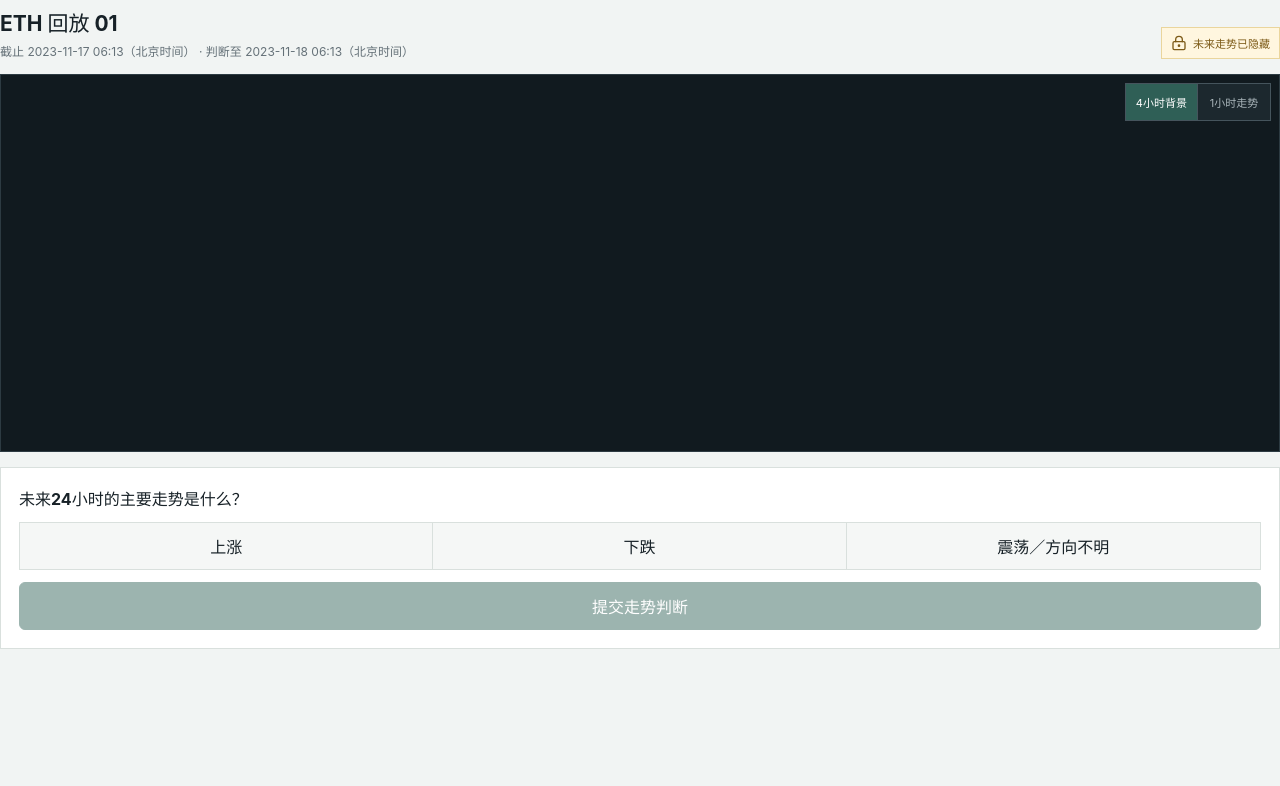
Test: ReplayStep › shows a custom continue label after submission
The image size is (1280, 786).
What coordinates should you click on to do the following:
click the radio button labelled "下跌"
I would click on:
 (640, 546)
Its box is [433,523,847,569].
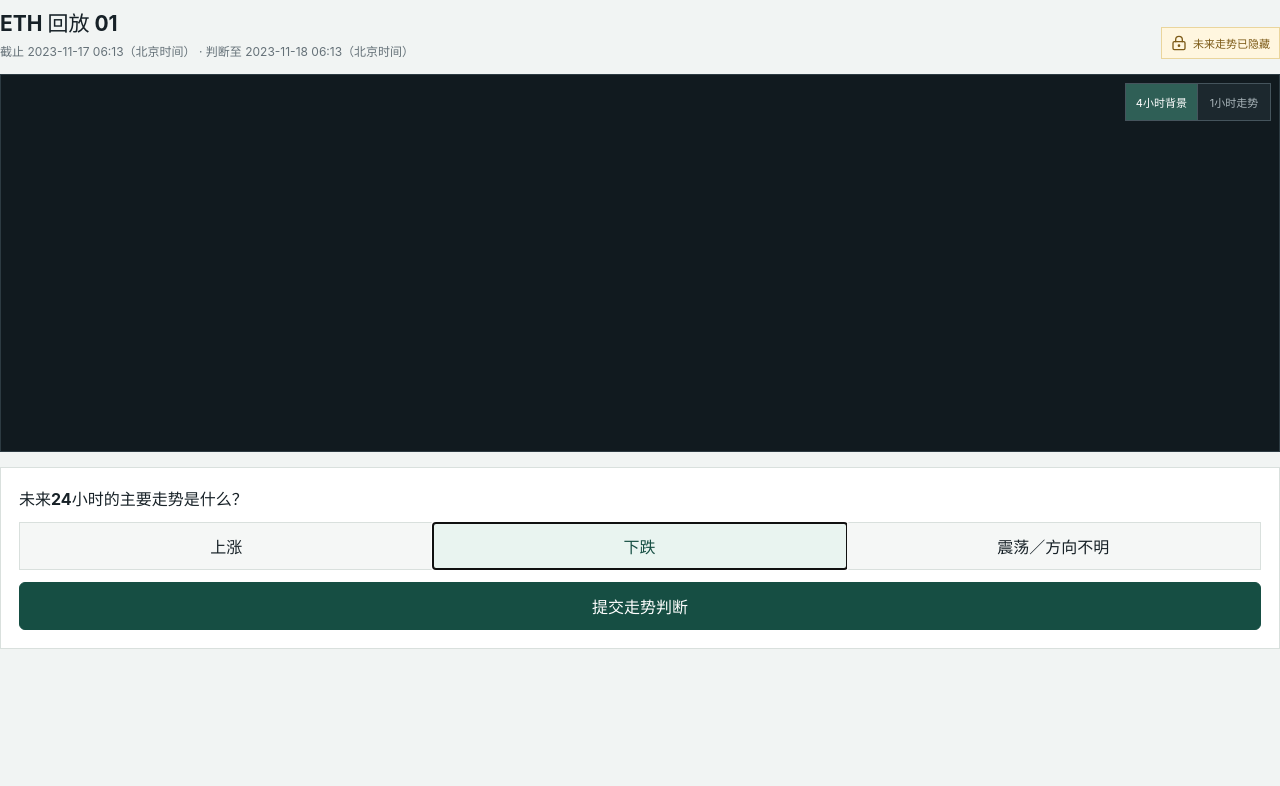
What coordinates should you click on to do the following:
click the button "提交走势判断"
I would click on:
 (640, 606)
Its box is [19,582,1261,630].
(page scrolled)
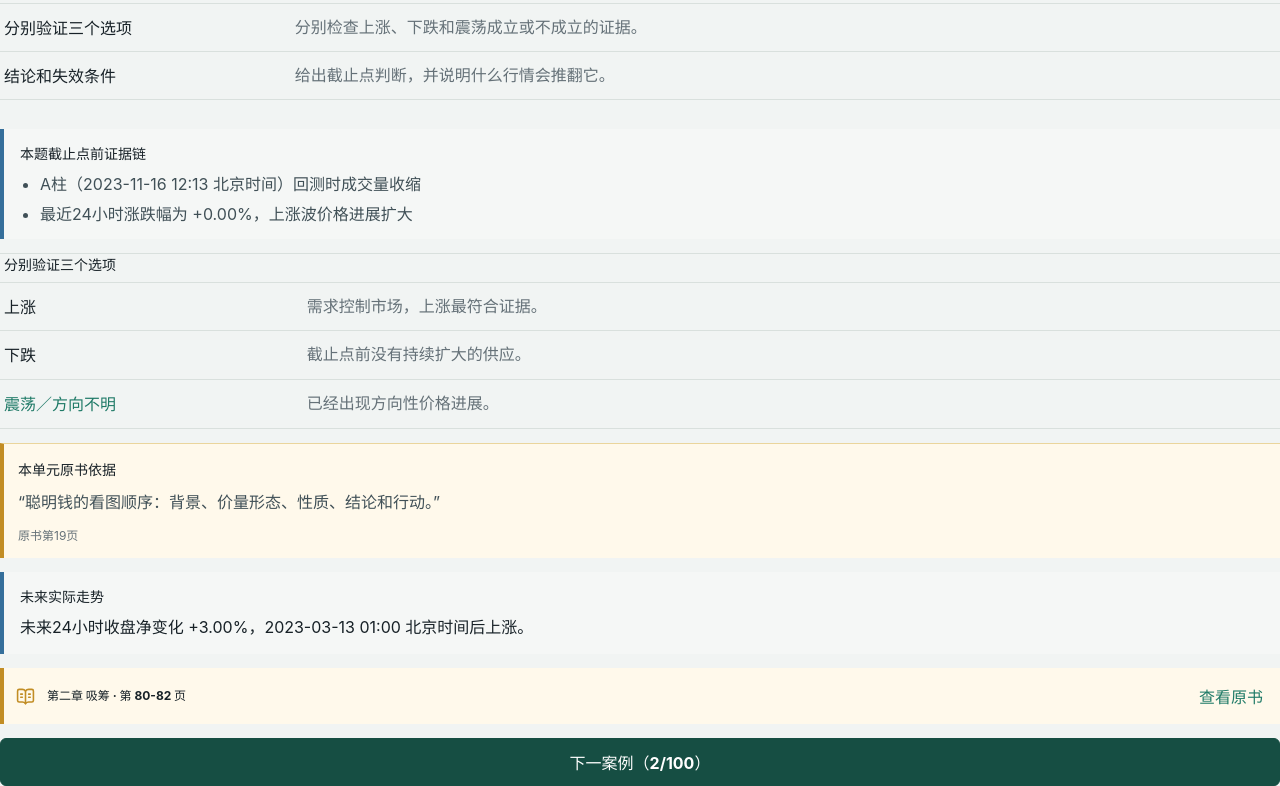
Expected: the button "下一案例（2/100）" is shown, [0,738,1279,785]
